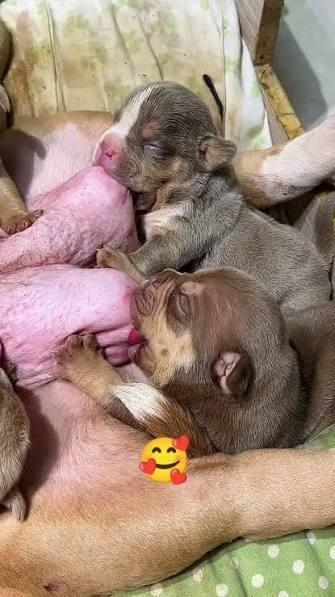adult_dog: (0, 111, 335, 591)
puppy-dog: (94, 77, 335, 330), (46, 267, 334, 458)
